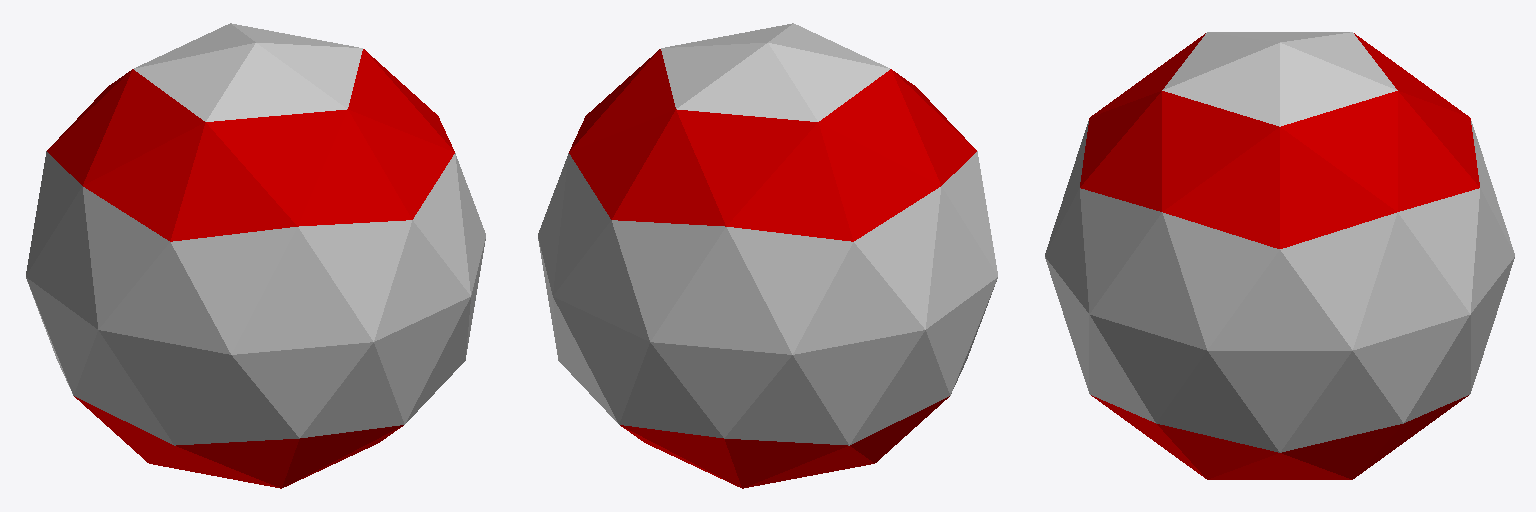
Rendered from PERSO_OBJ.obj.
The picture shows the model from 3 angles: view 1: azimuth 30°, elevation 25°; view 2: azimuth 150°, elevation 25°; view 3: azimuth 270°, elevation 25°; orthographic projection.
Parts seen in each view (by area): view 1: Mesh4 default_group1 Group2_1_1 skp430_1 Model, Mesh2 default_group Mesh1_default_group_Sphere_skpC4_1_skpBD1_de, Mesh5 default_group1 Group2_1_1 skp430_1 Model, Mesh1 default_group Mesh1_default_group_Sphere_skpC4_1_skpBD1_de; view 2: Mesh4 default_group1 Group2_1_1 skp430_1 Model, Mesh2 default_group Mesh1_default_group_Sphere_skpC4_1_skpBD1_de, Mesh5 default_group1 Group2_1_1 skp430_1 Model, Mesh1 default_group Mesh1_default_group_Sphere_skpC4_1_skpBD1_de; view 3: Mesh4 default_group1 Group2_1_1 skp430_1 Model, Mesh2 default_group Mesh1_default_group_Sphere_skpC4_1_skpBD1_de, Mesh5 default_group1 Group2_1_1 skp430_1 Model, Mesh1 default_group Mesh1_default_group_Sphere_skpC4_1_skpBD1_de.
Part boxes in pixels (x1,y1,x2,y2): Mesh4 default_group1 Group2_1_1 skp430_1 Model: (26, 151, 485, 445); Mesh2 default_group Mesh1_default_group_Sphere_skpC4_1_skpBD1_de: (47, 49, 454, 241); Mesh5 default_group1 Group2_1_1 skp430_1 Model: (134, 23, 362, 121); Mesh1 default_group Mesh1_default_group_Sphere_skpC4_1_skpBD1_de: (74, 396, 403, 488); Mesh4 default_group1 Group2_1_1 skp430_1 Model: (538, 151, 997, 445); Mesh2 default_group Mesh1_default_group_Sphere_skpC4_1_skpBD1_de: (569, 49, 976, 241); Mesh5 default_group1 Group2_1_1 skp430_1 Model: (661, 23, 889, 121); Mesh1 default_group Mesh1_default_group_Sphere_skpC4_1_skpBD1_de: (620, 396, 949, 488); Mesh4 default_group1 Group2_1_1 skp430_1 Model: (1045, 121, 1514, 452); Mesh2 default_group Mesh1_default_group_Sphere_skpC4_1_skpBD1_de: (1080, 33, 1479, 248); Mesh5 default_group1 Group2_1_1 skp430_1 Model: (1162, 32, 1397, 126); Mesh1 default_group Mesh1_default_group_Sphere_skpC4_1_skpBD1_de: (1091, 395, 1468, 479).
Bounding box in the file's own units: 0.9528 × 1 × 1.